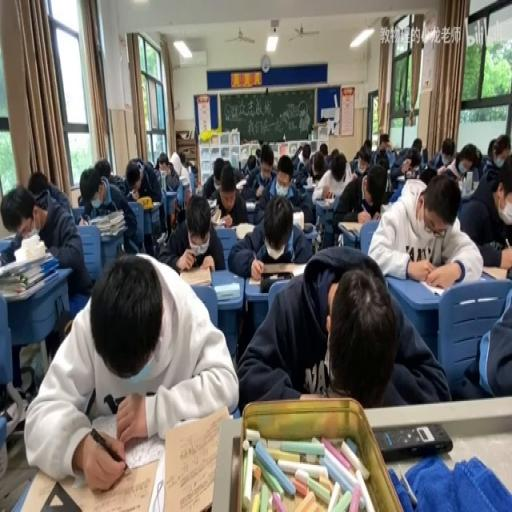calculator: (145, 445, 164, 512), (178, 263, 212, 285), (213, 280, 241, 300), (418, 279, 446, 296), (234, 222, 256, 240), (338, 220, 364, 234), (482, 264, 508, 278), (291, 210, 304, 230), (315, 195, 335, 206), (210, 205, 222, 222), (141, 199, 160, 208), (234, 176, 246, 190), (380, 200, 392, 214), (155, 232, 165, 246), (206, 196, 217, 208), (77, 215, 89, 226), (248, 275, 264, 283), (245, 200, 255, 212), (177, 174, 189, 184), (303, 182, 315, 192), (395, 174, 405, 180)
paper: (27, 250, 236, 491), (237, 247, 447, 411), (368, 169, 483, 289), (0, 179, 90, 300), (454, 272, 512, 400), (228, 190, 310, 276), (80, 164, 142, 260), (158, 192, 224, 274), (331, 159, 385, 242), (201, 161, 248, 226), (152, 152, 182, 196), (482, 134, 510, 178), (428, 135, 453, 171), (397, 148, 422, 182), (351, 140, 373, 174), (27, 169, 49, 199), (126, 160, 142, 190), (293, 158, 309, 186), (259, 148, 273, 178), (418, 165, 437, 185), (94, 158, 110, 179), (340, 158, 352, 182), (446, 161, 462, 179), (374, 148, 388, 168), (187, 162, 198, 184), (378, 135, 390, 152), (244, 154, 256, 170), (229, 152, 238, 171), (318, 141, 328, 158), (411, 138, 421, 154), (312, 164, 322, 179), (328, 148, 338, 162), (178, 149, 186, 165), (302, 145, 310, 161), (294, 144, 302, 158), (254, 148, 261, 161), (390, 148, 397, 156)
person: (374, 422, 451, 461), (260, 270, 294, 292), (104, 391, 118, 414), (302, 220, 314, 232)
